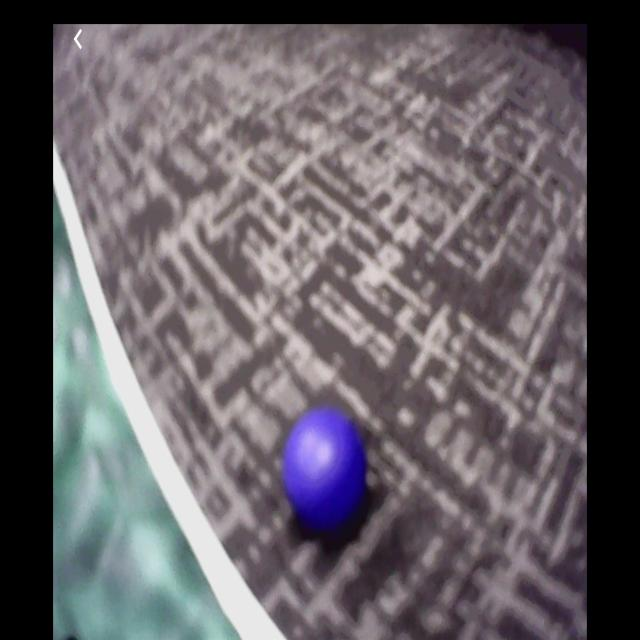ball: (283, 411, 368, 540)
